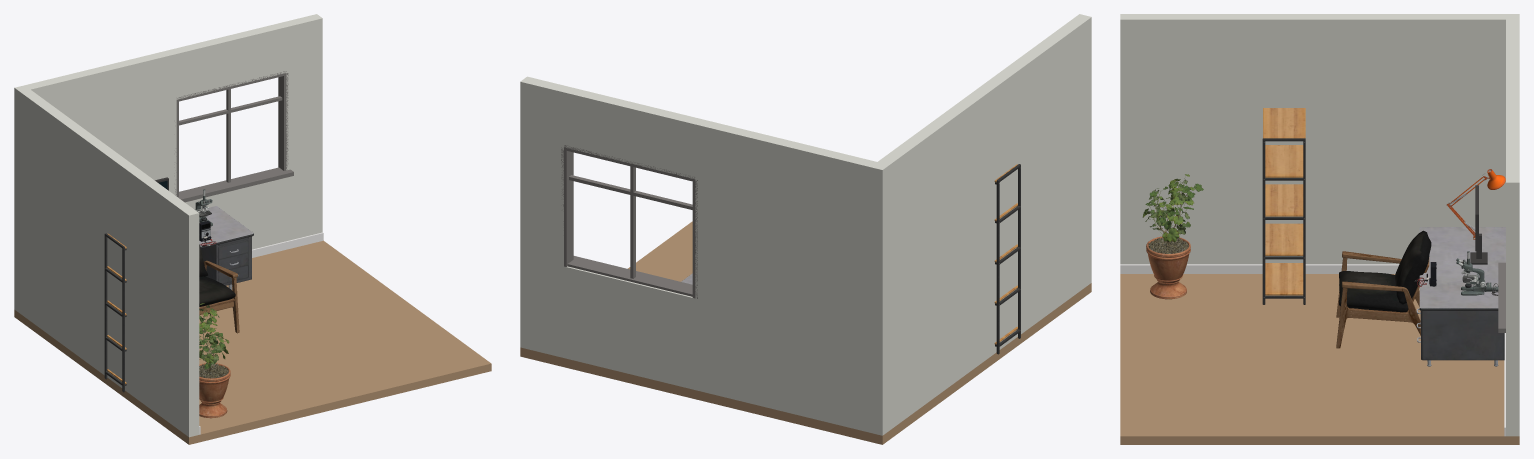
The model's file is lab_corner.glb.
The picture shows the model from 3 angles, left to right: view 1: azimuth 30°, elevation 25°; view 2: azimuth 150°, elevation 25°; view 3: azimuth 270°, elevation 25°; orthographic projection. The views are drawn at different scales.
Parts seen in each view (by area): view 1: Lab_shell, Lab_props; view 2: Lab_shell, Lab_props; view 3: Lab_shell, Lab_props.
Boxes of the visible parts, <box> form: Lab_shell: <box>14,14,491,444</box>; Lab_props: <box>104,189,253,418</box>; Lab_shell: <box>520,14,1091,444</box>; Lab_props: <box>681,164,1020,354</box>; Lab_shell: <box>1120,14,1519,444</box>; Lab_props: <box>1142,108,1505,366</box>.
Size of the model in its own units: 4.19 by 3 by 4.14.
Materials: 13 (13 with a texture image).
